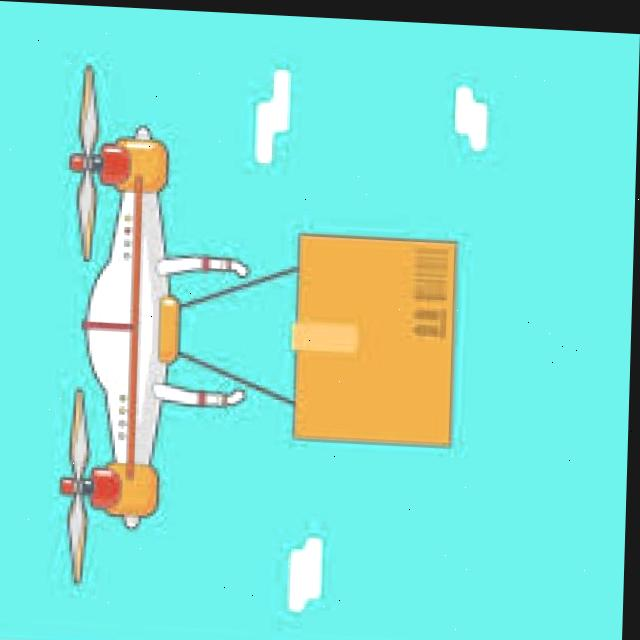drone: (35, 43, 273, 584)
